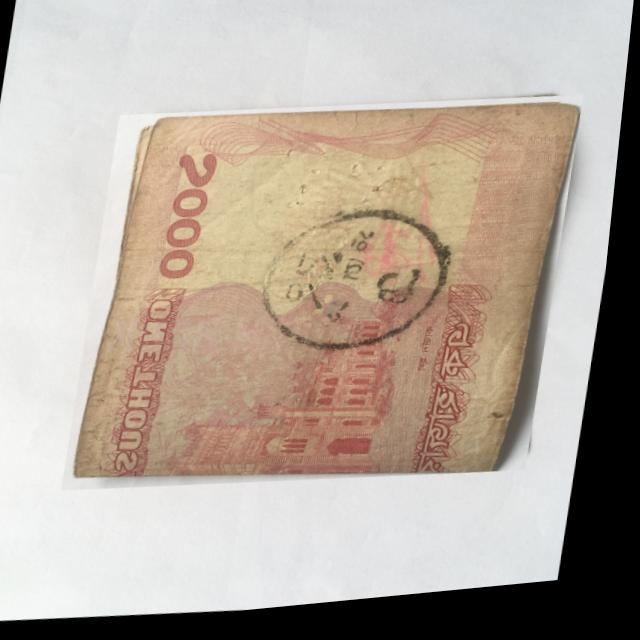Taka: (70, 83, 589, 517)
